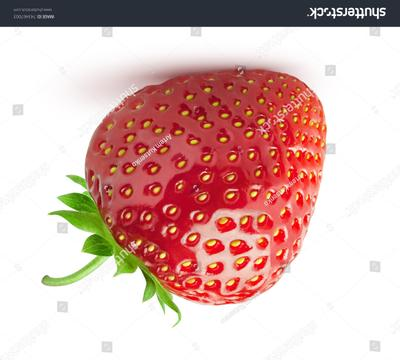strawberry: (0, 0, 400, 360)
